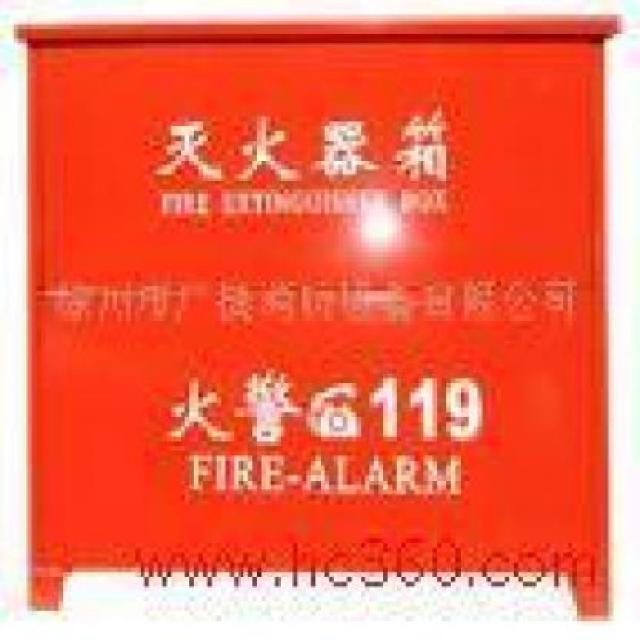firehydrant: (9, 8, 632, 630)
